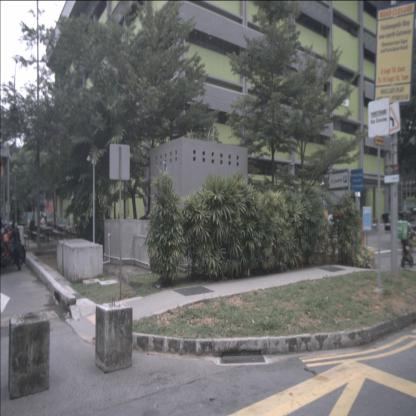human-pedestrian-adult: (29, 214, 37, 238), (39, 214, 45, 235)
vehicle-bicycle: (398, 214, 416, 269)
vehicle-motorcycle: (1, 217, 24, 272)
